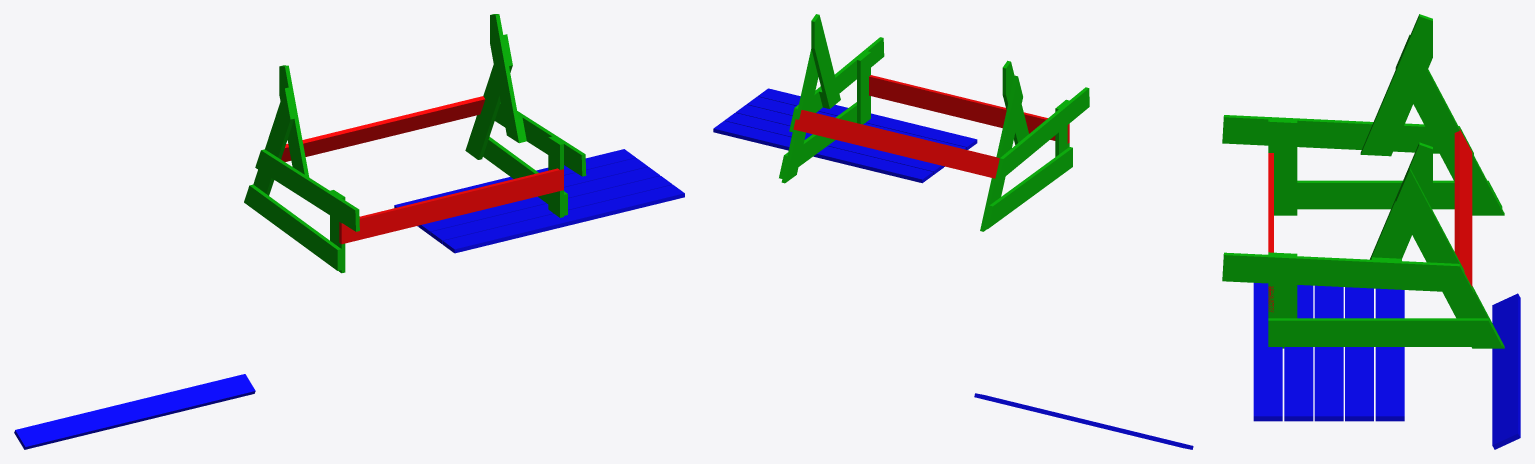
File: result.glb
3 renders of one model, left to right at view 1: azimuth 30°, elevation 25°; view 2: azimuth 150°, elevation 25°; view 3: azimuth 270°, elevation 25°, orthographic. The views are drawn at different scales.
Parts seen in each view (by area): view 1: b9c4f323-056b-49f9-82f3-bfc61efb42df__Box_7, 727ed67e-ee1e-4e2c-ba41-9c9a8e92721f__Plane_1, 97c6faa2-e8f9-4816-ac07-e3be4bfd06b3__Box_5, 44fcf7ee-7e2c-4938-8a45-5caddd84e57b__Plane_2, 649493d3-b3aa-48ad-b125-aa8f5e7e7548__Box_1, 5634de69-fc29-4f23-8fd8-9f5619a91ab3__undefined, 032b230a-9b3c-49d9-b9f6-923c5709661e__undefined, 637bc183-3a78-43b0-b72e-91dab4415b26__Box_2, 7ebb3050-056f-48fd-94ee-3be25b4502ae__undefined, 615dc333-b379-4d84-8f2b-292faf35fa2a__undefined, 41ad5233-4d37-4d80-996c-bdd4de3ac68a__undefined, 34cfe36e-8993-4d6e-b4c9-4e9ccb3b6c43__undefined (+5 smaller); view 2: 44fcf7ee-7e2c-4938-8a45-5caddd84e57b__Plane_2, 727ed67e-ee1e-4e2c-ba41-9c9a8e92721f__Plane_1, d064cf69-bdbe-443d-8f9a-59d62e772fd2__Box_4, 5634de69-fc29-4f23-8fd8-9f5619a91ab3__undefined, 032b230a-9b3c-49d9-b9f6-923c5709661e__undefined, 97c6faa2-e8f9-4816-ac07-e3be4bfd06b3__Box_5, 39b9a75a-e48b-4c35-bad3-d01d484f3ffc__Box_3, 41ad5233-4d37-4d80-996c-bdd4de3ac68a__undefined, 7ebb3050-056f-48fd-94ee-3be25b4502ae__undefined, b9c4f323-056b-49f9-82f3-bfc61efb42df__Box_7, 615dc333-b379-4d84-8f2b-292faf35fa2a__undefined, 34cfe36e-8993-4d6e-b4c9-4e9ccb3b6c43__undefined (+5 smaller); view 3: 34cfe36e-8993-4d6e-b4c9-4e9ccb3b6c43__undefined, e65b763d-5592-4968-a3c2-055272a54611__Plane, 615dc333-b379-4d84-8f2b-292faf35fa2a__undefined (×2), 5634de69-fc29-4f23-8fd8-9f5619a91ab3__undefined, 349f1847-161c-460f-97ce-05db192d06c8__undefined, b9c4f323-056b-49f9-82f3-bfc61efb42df__Box_7, 032b230a-9b3c-49d9-b9f6-923c5709661e__undefined, 41ad5233-4d37-4d80-996c-bdd4de3ac68a__undefined, 97c6faa2-e8f9-4816-ac07-e3be4bfd06b3__Box_5, 637bc183-3a78-43b0-b72e-91dab4415b26__Box_2, d064cf69-bdbe-443d-8f9a-59d62e772fd2__Box_4, 39b9a75a-e48b-4c35-bad3-d01d484f3ffc__Box_3 (+6 smaller).
Part boxes in pixels (bbox=[...]): b9c4f323-056b-49f9-82f3-bfc61efb42df__Box_7: bbox=[14, 374, 255, 449]; 727ed67e-ee1e-4e2c-ba41-9c9a8e92721f__Plane_1: bbox=[339, 168, 563, 244]; 97c6faa2-e8f9-4816-ac07-e3be4bfd06b3__Box_5: bbox=[443, 185, 684, 253]; 44fcf7ee-7e2c-4938-8a45-5caddd84e57b__Plane_2: bbox=[281, 96, 485, 161]; 649493d3-b3aa-48ad-b125-aa8f5e7e7548__Box_1: bbox=[430, 176, 672, 244]; 5634de69-fc29-4f23-8fd8-9f5619a91ab3__undefined: bbox=[255, 149, 359, 231]; 032b230a-9b3c-49d9-b9f6-923c5709661e__undefined: bbox=[244, 184, 341, 270]; 637bc183-3a78-43b0-b72e-91dab4415b26__Box_2: bbox=[418, 167, 660, 235]; 7ebb3050-056f-48fd-94ee-3be25b4502ae__undefined: bbox=[490, 14, 522, 143]; 615dc333-b379-4d84-8f2b-292faf35fa2a__undefined: bbox=[465, 34, 512, 159]; 41ad5233-4d37-4d80-996c-bdd4de3ac68a__undefined: bbox=[253, 87, 294, 195]; 34cfe36e-8993-4d6e-b4c9-4e9ccb3b6c43__undefined: bbox=[495, 103, 586, 176]; 44fcf7ee-7e2c-4938-8a45-5caddd84e57b__Plane_2: bbox=[793, 110, 999, 178]; 727ed67e-ee1e-4e2c-ba41-9c9a8e92721f__Plane_1: bbox=[869, 75, 1069, 143]; d064cf69-bdbe-443d-8f9a-59d62e772fd2__Box_4: bbox=[713, 121, 932, 183]; 5634de69-fc29-4f23-8fd8-9f5619a91ab3__undefined: bbox=[994, 87, 1089, 182]; 032b230a-9b3c-49d9-b9f6-923c5709661e__undefined: bbox=[984, 147, 1072, 228]; 97c6faa2-e8f9-4816-ac07-e3be4bfd06b3__Box_5: bbox=[757, 88, 977, 149]; 39b9a75a-e48b-4c35-bad3-d01d484f3ffc__Box_3: bbox=[724, 113, 943, 174]; 41ad5233-4d37-4d80-996c-bdd4de3ac68a__undefined: bbox=[980, 75, 1022, 231]; 7ebb3050-056f-48fd-94ee-3be25b4502ae__undefined: bbox=[811, 14, 840, 108]; b9c4f323-056b-49f9-82f3-bfc61efb42df__Box_7: bbox=[974, 393, 1193, 449]; 615dc333-b379-4d84-8f2b-292faf35fa2a__undefined: bbox=[781, 57, 818, 182]; 34cfe36e-8993-4d6e-b4c9-4e9ccb3b6c43__undefined: bbox=[789, 37, 884, 132]; 34cfe36e-8993-4d6e-b4c9-4e9ccb3b6c43__undefined: bbox=[1222, 252, 1473, 293]; e65b763d-5592-4968-a3c2-055272a54611__Plane: bbox=[1268, 318, 1502, 346]; 615dc333-b379-4d84-8f2b-292faf35fa2a__undefined (×2): bbox=[1395, 167, 1504, 348]; 5634de69-fc29-4f23-8fd8-9f5619a91ab3__undefined: bbox=[1222, 115, 1473, 154]; 349f1847-161c-460f-97ce-05db192d06c8__undefined: bbox=[1360, 14, 1432, 156]; b9c4f323-056b-49f9-82f3-bfc61efb42df__Box_7: bbox=[1492, 293, 1520, 449]; 032b230a-9b3c-49d9-b9f6-923c5709661e__undefined: bbox=[1297, 180, 1502, 209]; 41ad5233-4d37-4d80-996c-bdd4de3ac68a__undefined: bbox=[1395, 34, 1504, 215]; 97c6faa2-e8f9-4816-ac07-e3be4bfd06b3__Box_5: bbox=[1253, 283, 1282, 421]; 637bc183-3a78-43b0-b72e-91dab4415b26__Box_2: bbox=[1314, 285, 1343, 421]; d064cf69-bdbe-443d-8f9a-59d62e772fd2__Box_4: bbox=[1375, 288, 1404, 421]; 39b9a75a-e48b-4c35-bad3-d01d484f3ffc__Box_3: bbox=[1345, 287, 1373, 421].
Size of the model in its own units: 2746 by 1626 by 1008.
